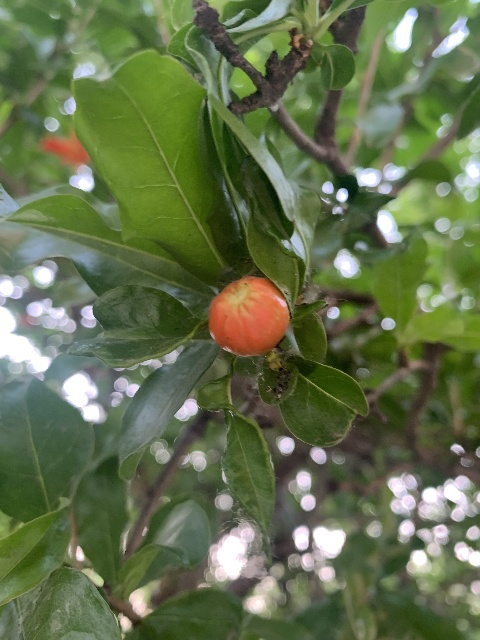bud: (208, 276, 289, 357)
